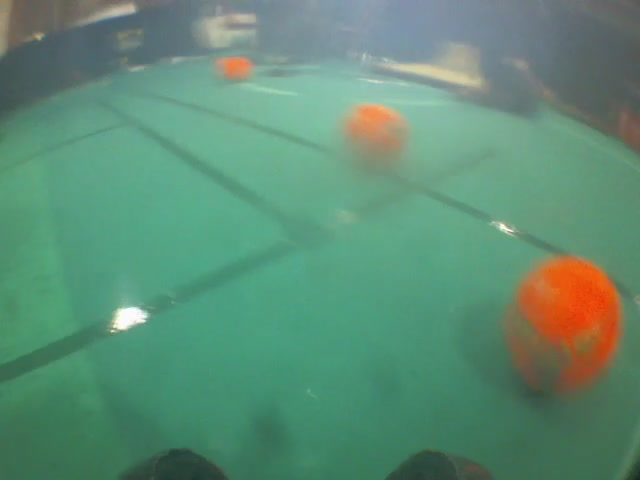ball: (493, 248, 622, 406), (330, 95, 418, 185), (206, 50, 257, 97)
